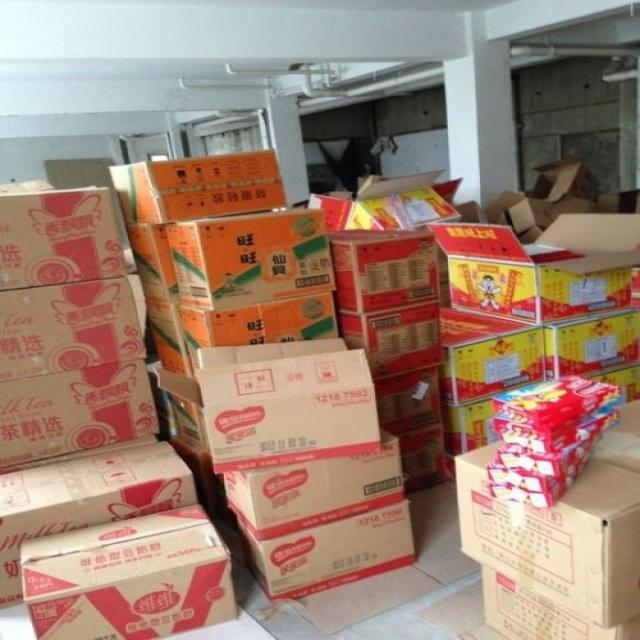box: (457, 398, 640, 629), (0, 440, 197, 609), (156, 337, 383, 470), (22, 504, 238, 640), (425, 213, 639, 327), (223, 425, 403, 542), (238, 498, 416, 603), (166, 208, 337, 311), (0, 276, 147, 382), (179, 291, 339, 378), (109, 150, 289, 224), (1, 188, 127, 293), (481, 564, 640, 640), (440, 306, 547, 407), (493, 376, 622, 454), (308, 170, 462, 235), (488, 156, 603, 242), (328, 229, 440, 316), (489, 430, 605, 506), (335, 302, 443, 382), (539, 308, 640, 382), (0, 434, 157, 472), (375, 363, 442, 438), (125, 224, 183, 304), (143, 298, 195, 378), (442, 397, 503, 456), (399, 426, 444, 496), (168, 391, 210, 452), (586, 365, 640, 404), (0, 177, 54, 196)
